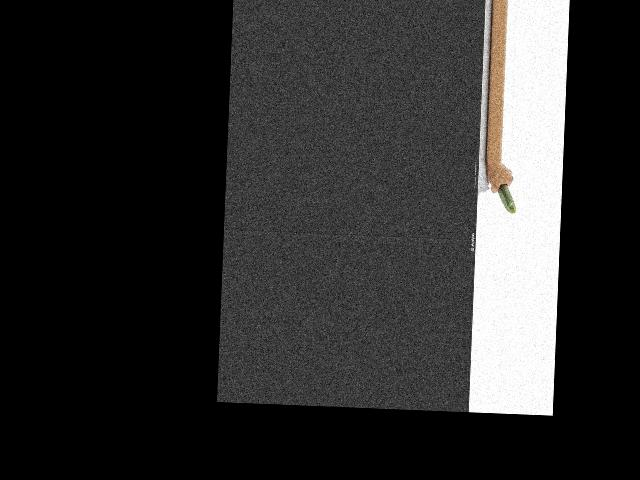cucumber: (496, 183, 516, 213)
